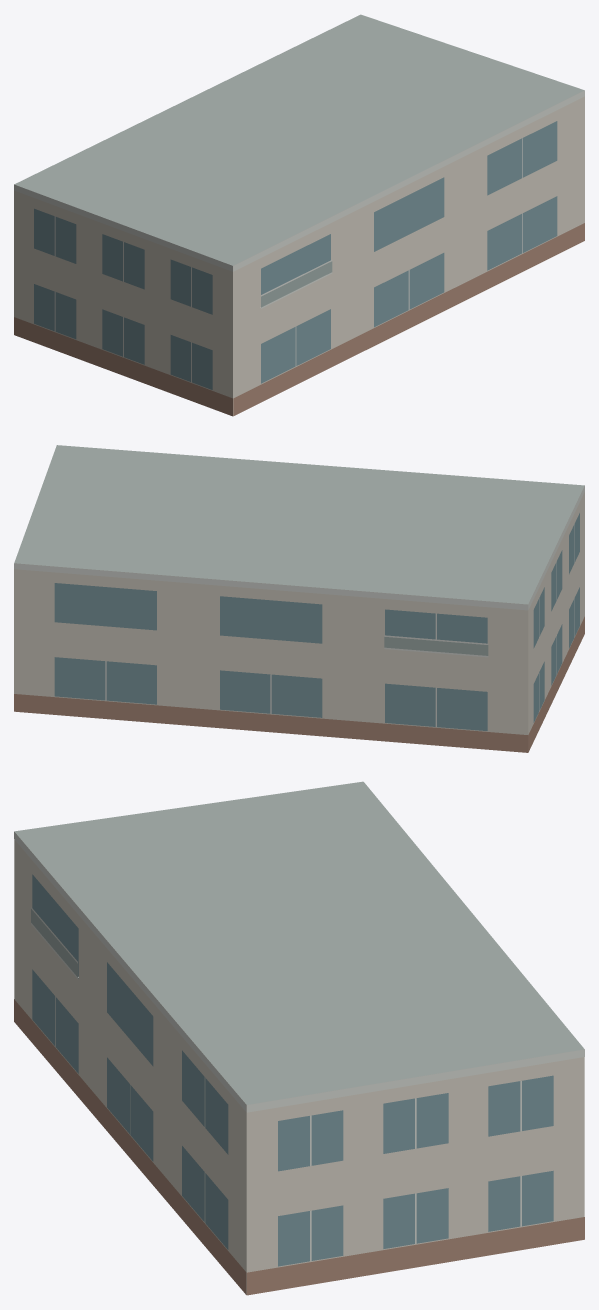
The model's file is survey-upis-32604241.glb.
The picture shows the model from 3 angles, top to bottom: view 1: azimuth 30°, elevation 25°; view 2: azimuth 150°, elevation 25°; view 3: azimuth 270°, elevation 25°; orthographic projection. The views are drawn at different scales.
Visible parts, largest first — view 1: survey-upis-32604241.tmp; view 2: survey-upis-32604241.tmp; view 3: survey-upis-32604241.tmp.
Part boxes in pixels (<box>): survey-upis-32604241.tmp: <box>14,14,584,416</box>; survey-upis-32604241.tmp: <box>14,445,584,752</box>; survey-upis-32604241.tmp: <box>14,781,584,1295</box>.
Bounding box in the file's own units: 22.25 × 6.1 × 16.59.
